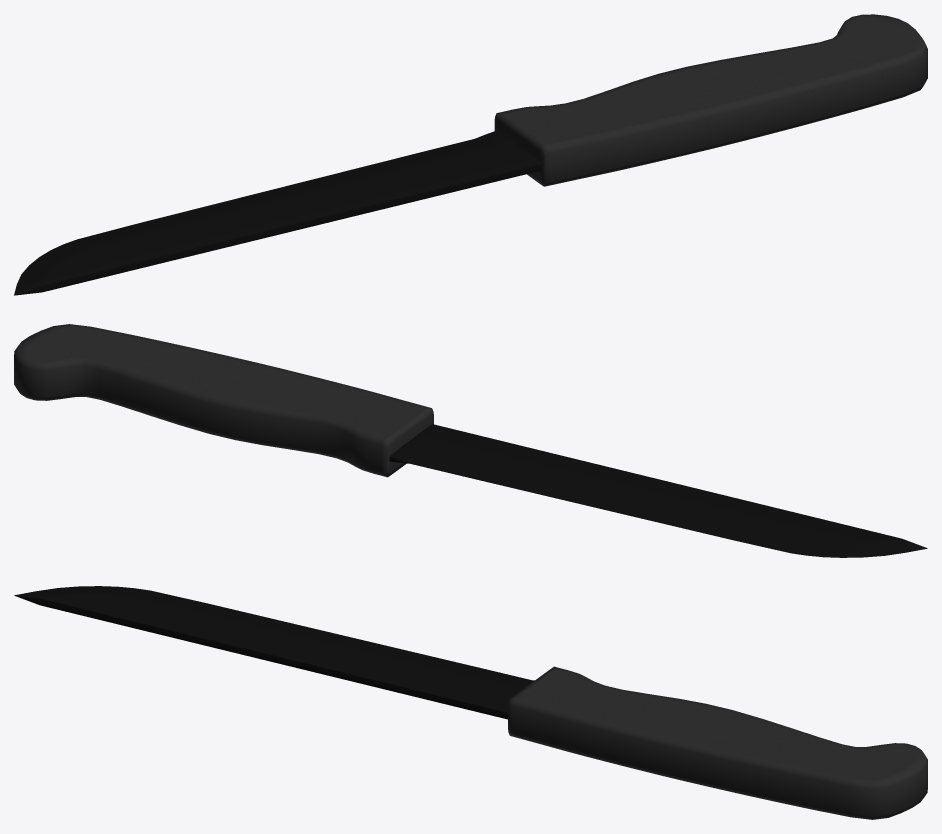
Rendered from Knife_1.obj.
The picture shows the model from 3 angles, top to bottom: view 1: azimuth 30°, elevation 25°; view 2: azimuth 150°, elevation 25°; view 3: azimuth 330°, elevation 25°; orthographic projection. The views are drawn at different scales.
Visible parts, largest first — view 1: Knife_1; view 2: Knife_1; view 3: Knife_1.
Part boxes in pixels (x1,y1,x2,y2): Knife_1: (14,14,927,295); Knife_1: (14,324,927,557); Knife_1: (14,586,927,819).
Bounding box in the file's own units: 250 × 10 × 29.49.
1 material, 1 textured.
